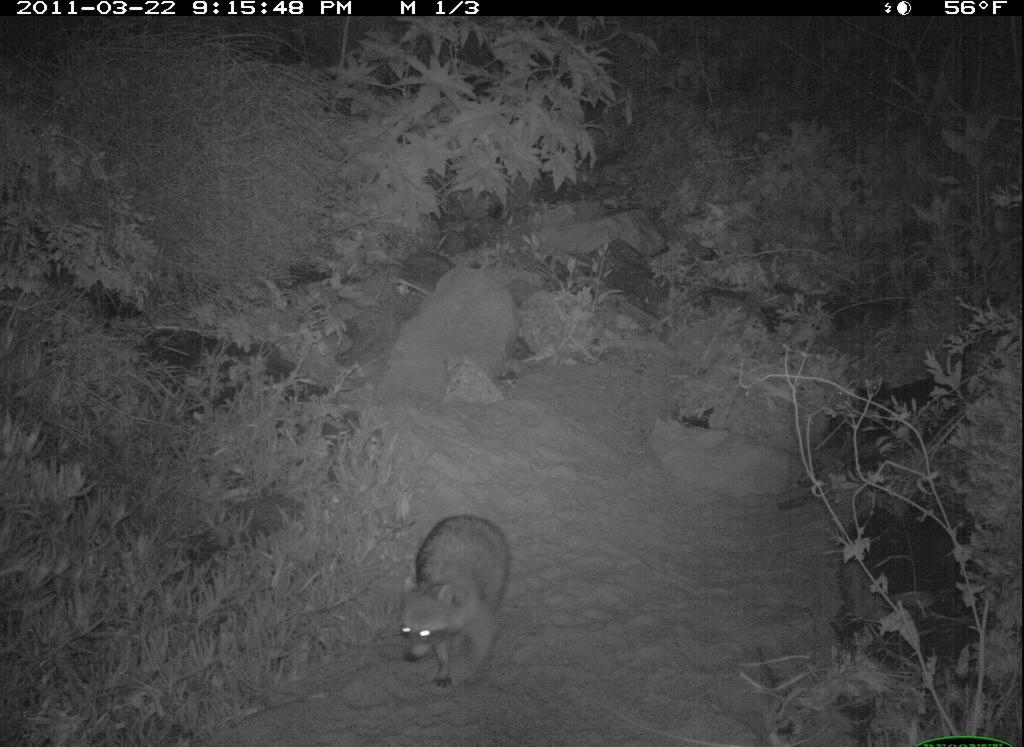raccoon: (386, 507, 523, 707)
